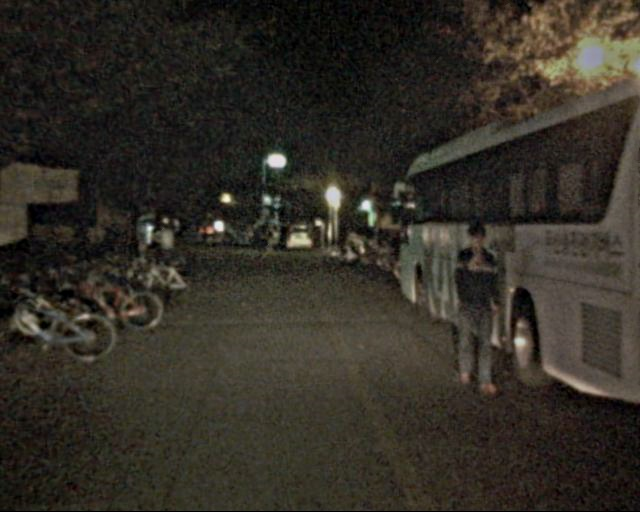person: (441, 212, 512, 396), (152, 220, 177, 282)
